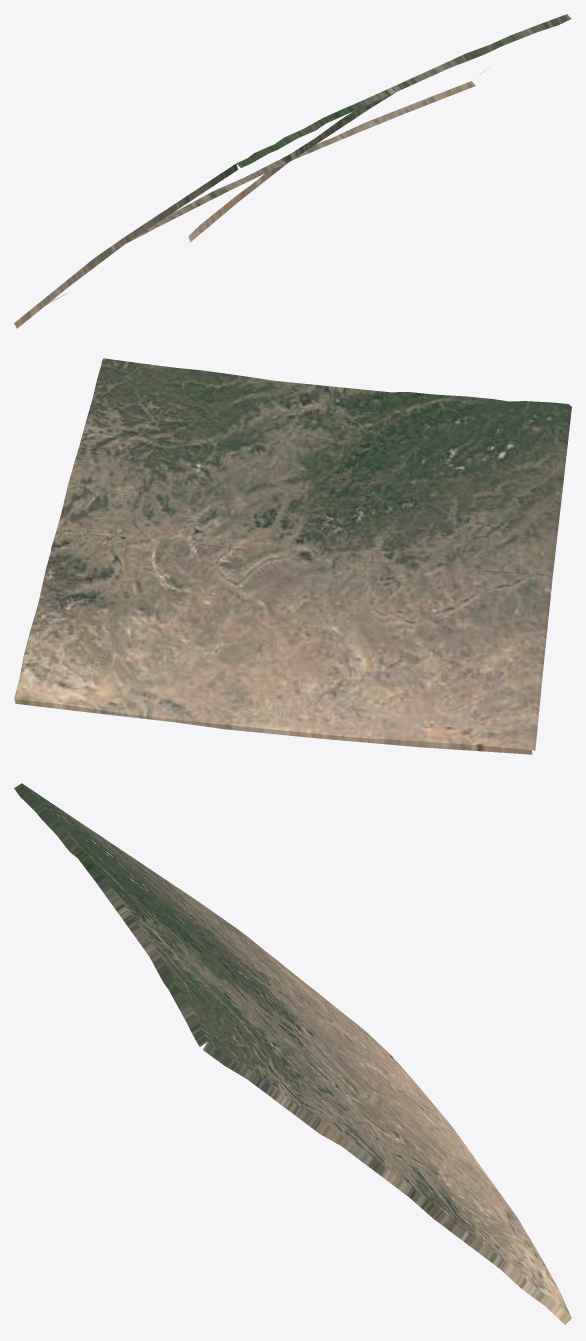
The picture shows the model from 3 angles, top to bottom: view 1: azimuth 30°, elevation 25°; view 2: azimuth 150°, elevation 25°; view 3: azimuth 270°, elevation 25°; orthographic projection. The views are drawn at different scales.
Bounding box in the file's own units: 947214 × 435082 × 696492.
Materials: 1 (1 with a texture image).
